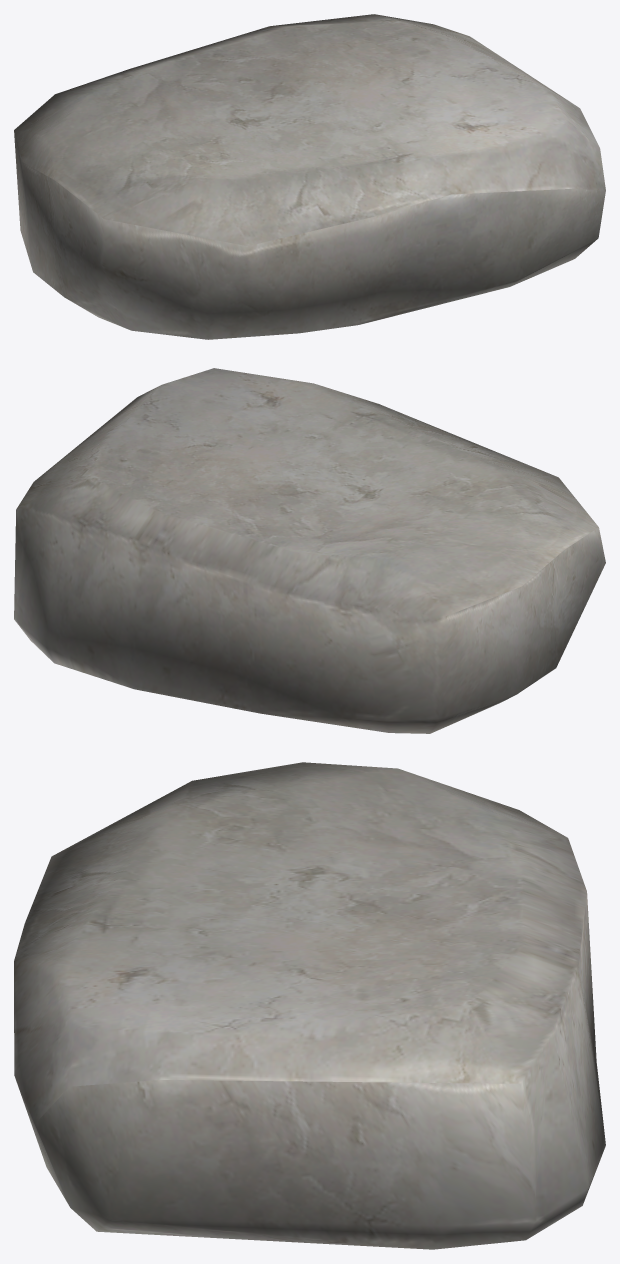
Rendered from Rock_02_high.glb.
3 views of the same model, one above another, from view 1: azimuth 30°, elevation 25°; view 2: azimuth 150°, elevation 25°; view 3: azimuth 270°, elevation 25° (orthographic). The views are drawn at different scales.
Visible parts, largest first — view 1: rock_02; view 2: rock_02; view 3: rock_02.
Part boxes in pixels (left/top/right/bottom): rock_02: left=14, top=14, right=605, bottom=339; rock_02: left=14, top=368, right=605, bottom=733; rock_02: left=14, top=762, right=605, bottom=1249.
Bounding box in the file's own units: 1.44 × 0.5045 × 1.15.
Materials: 1 (1 with a texture image).
